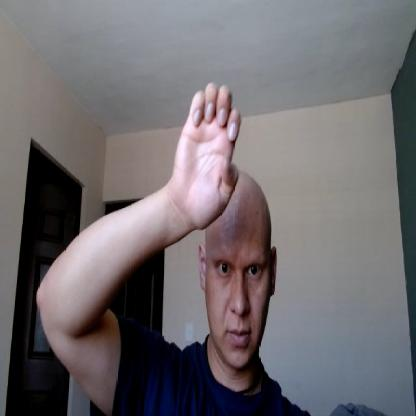E: (174, 82, 242, 232)
